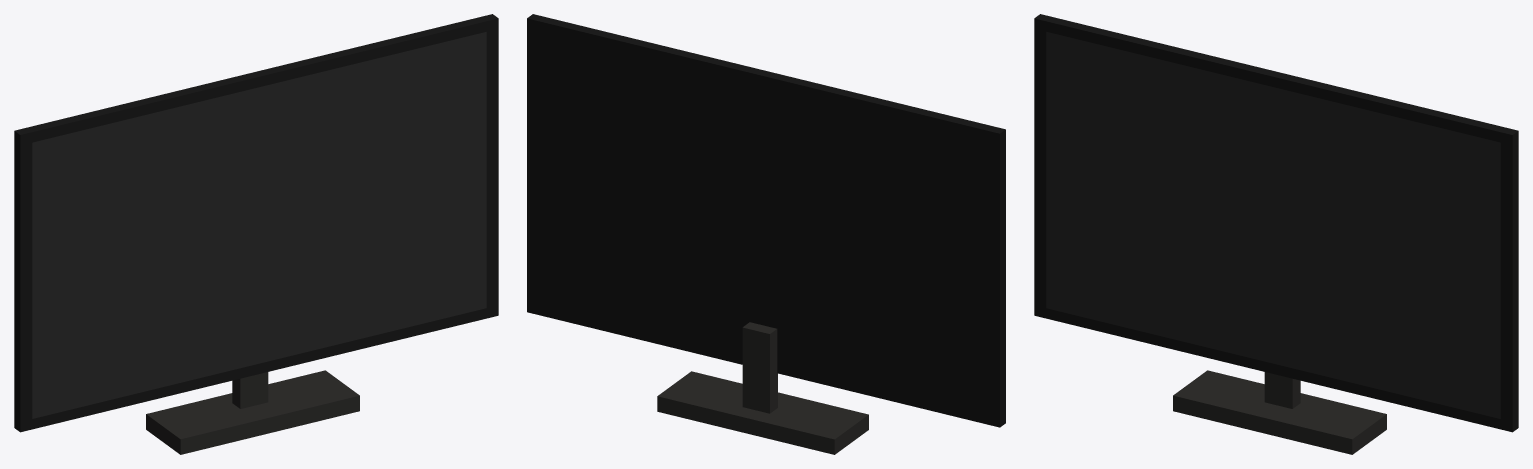
The picture shows the model from 3 angles, left to right: view 1: azimuth 30°, elevation 25°; view 2: azimuth 150°, elevation 25°; view 3: azimuth 330°, elevation 25°; orthographic projection.
Visible parts, largest first — view 1: polySurface1518; view 2: polySurface1518; view 3: polySurface1518.
Boxes of the visible parts, x1,y1,x2,y2 form: polySurface1518: [14, 14, 498, 454]; polySurface1518: [527, 14, 1005, 454]; polySurface1518: [1034, 14, 1518, 454].
Bounding box in the file's own units: 1.6 × 1.11 × 0.2.
Materials: 1 (1 with a texture image).
